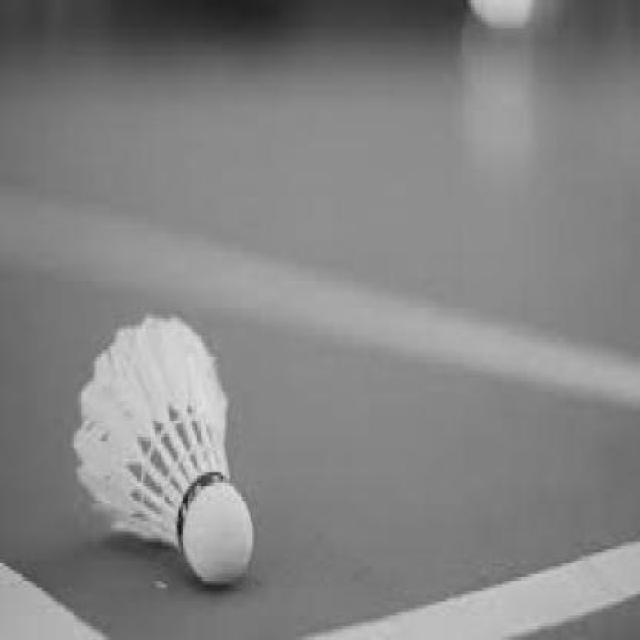Shuttlecock: (72, 311, 257, 592)
